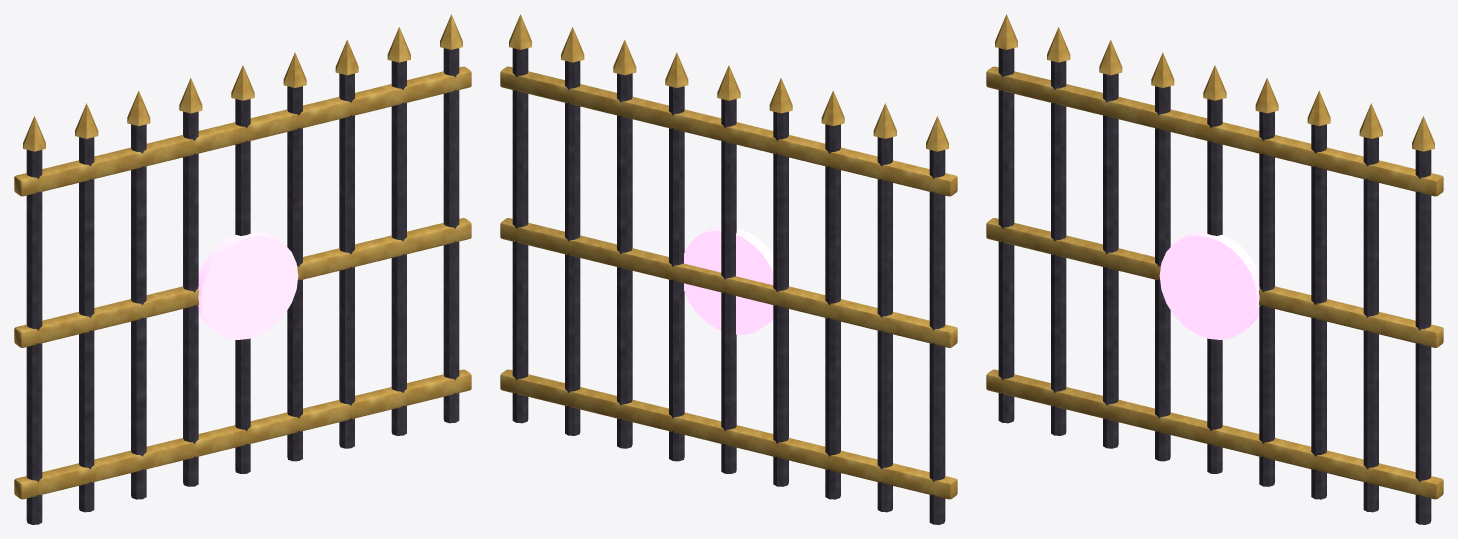
File: GIN_ThroneRoomDoor.fbx
3 renders of one model, left to right at view 1: azimuth 30°, elevation 25°; view 2: azimuth 150°, elevation 25°; view 3: azimuth 330°, elevation 25°, orthographic.
Parts seen in each view (by area): view 1: GIN_ThroneRoomDoor; view 2: GIN_ThroneRoomDoor; view 3: GIN_ThroneRoomDoor.
Boxes of the visible parts, left/top/right/bottom form: GIN_ThroneRoomDoor: left=14, top=14, right=471, bottom=524; GIN_ThroneRoomDoor: left=500, top=14, right=957, bottom=524; GIN_ThroneRoomDoor: left=986, top=14, right=1443, bottom=524.
Bounding box in the file's own units: 3.9 × 3.35 × 0.1866.
